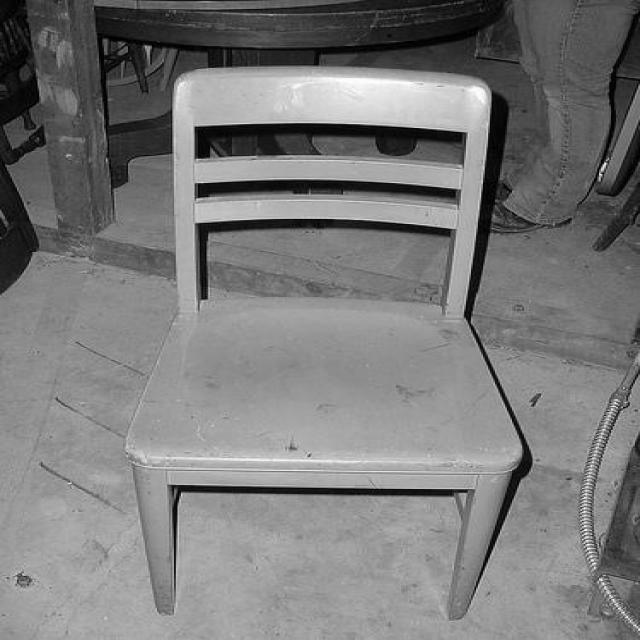chair: (123, 63, 527, 620)
